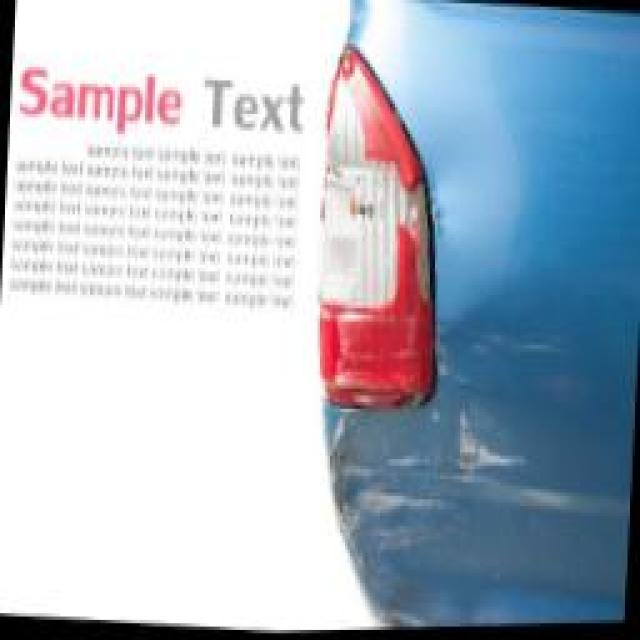Bumper: (318, 322, 568, 606)
Light: (312, 54, 442, 402)
